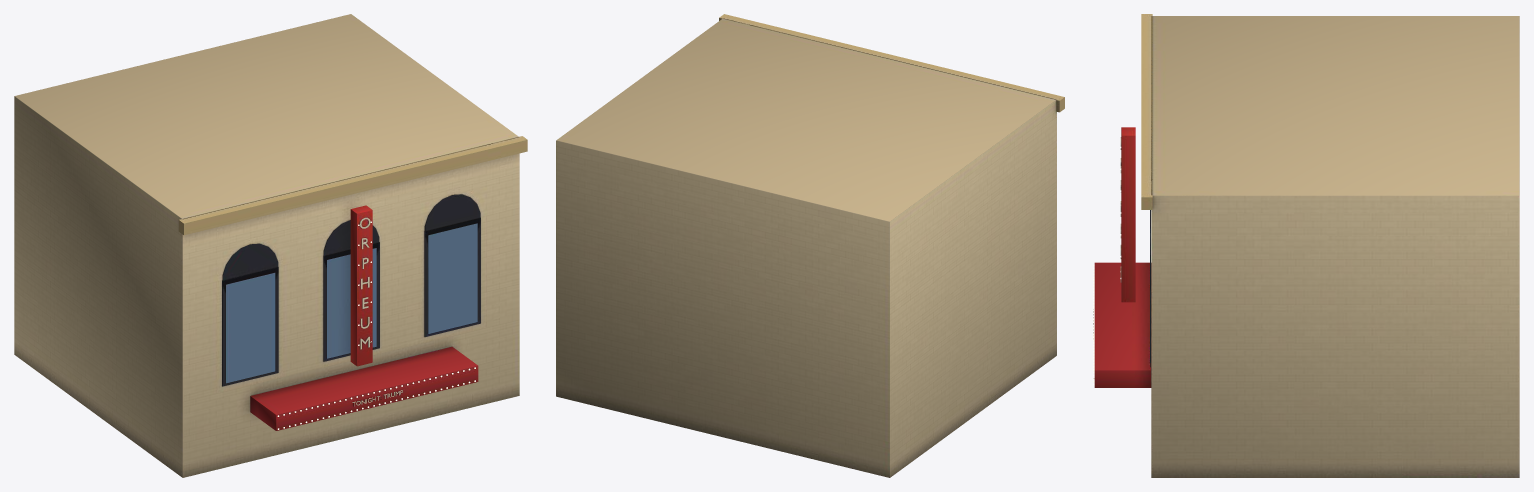
The model's file is orpheum.glb.
3 renders of one model, left to right at view 1: azimuth 30°, elevation 25°; view 2: azimuth 150°, elevation 25°; view 3: azimuth 270°, elevation 25°, orthographic. The views are drawn at different scales.
Visible parts, largest first — view 1: orpheum; view 2: orpheum; view 3: orpheum.
Boxes of the visible parts, x1,y1,x2,y2 form: orpheum: (14, 14, 527, 477); orpheum: (556, 14, 1064, 477); orpheum: (1093, 14, 1519, 477).
Size of the model in its own units: 30.6 by 22 by 30.09.
Materials: 1 (1 with a texture image).
